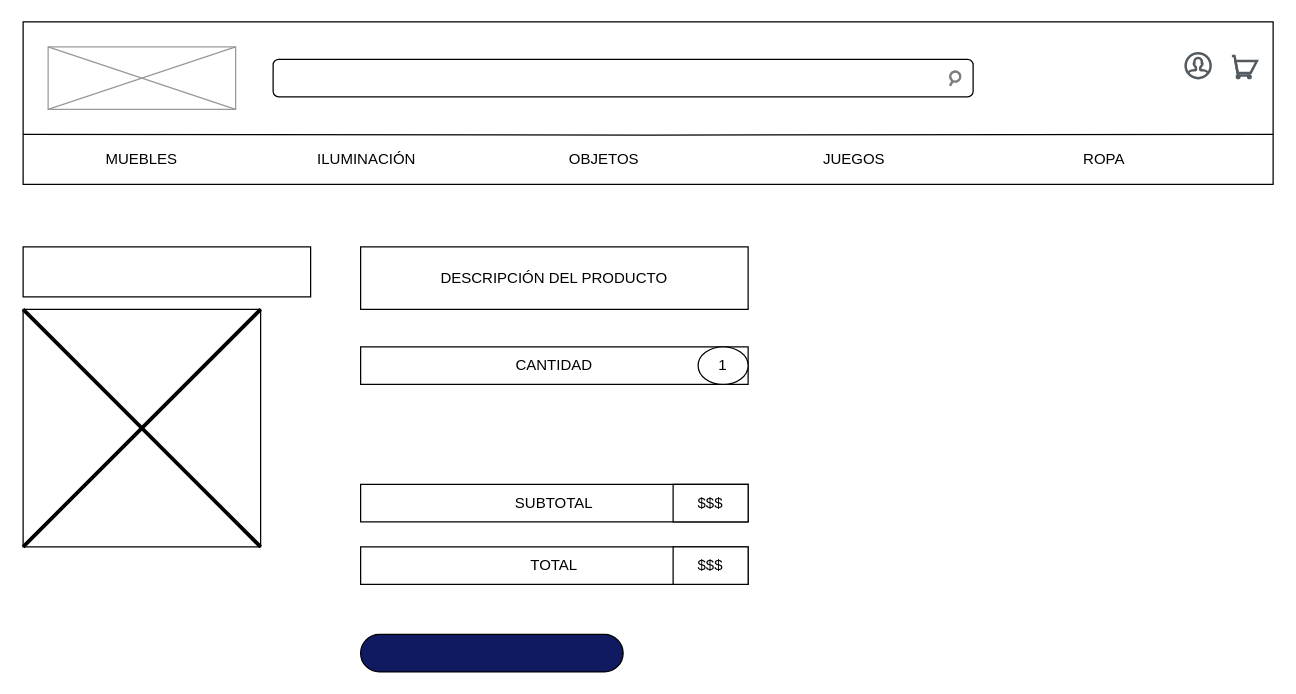
The diagram is 1296 pixels wide and 694 high, and some of its shapes have lost their labels. The shapes that lost their labels are listed below. From the top down, each one's centre as x and y in pixels, then its label:
At point 622,77: "¿Qué estás buscando?".
At point 166,271: "MI COMPRA".
At point 491,652: "Proceder compra".
